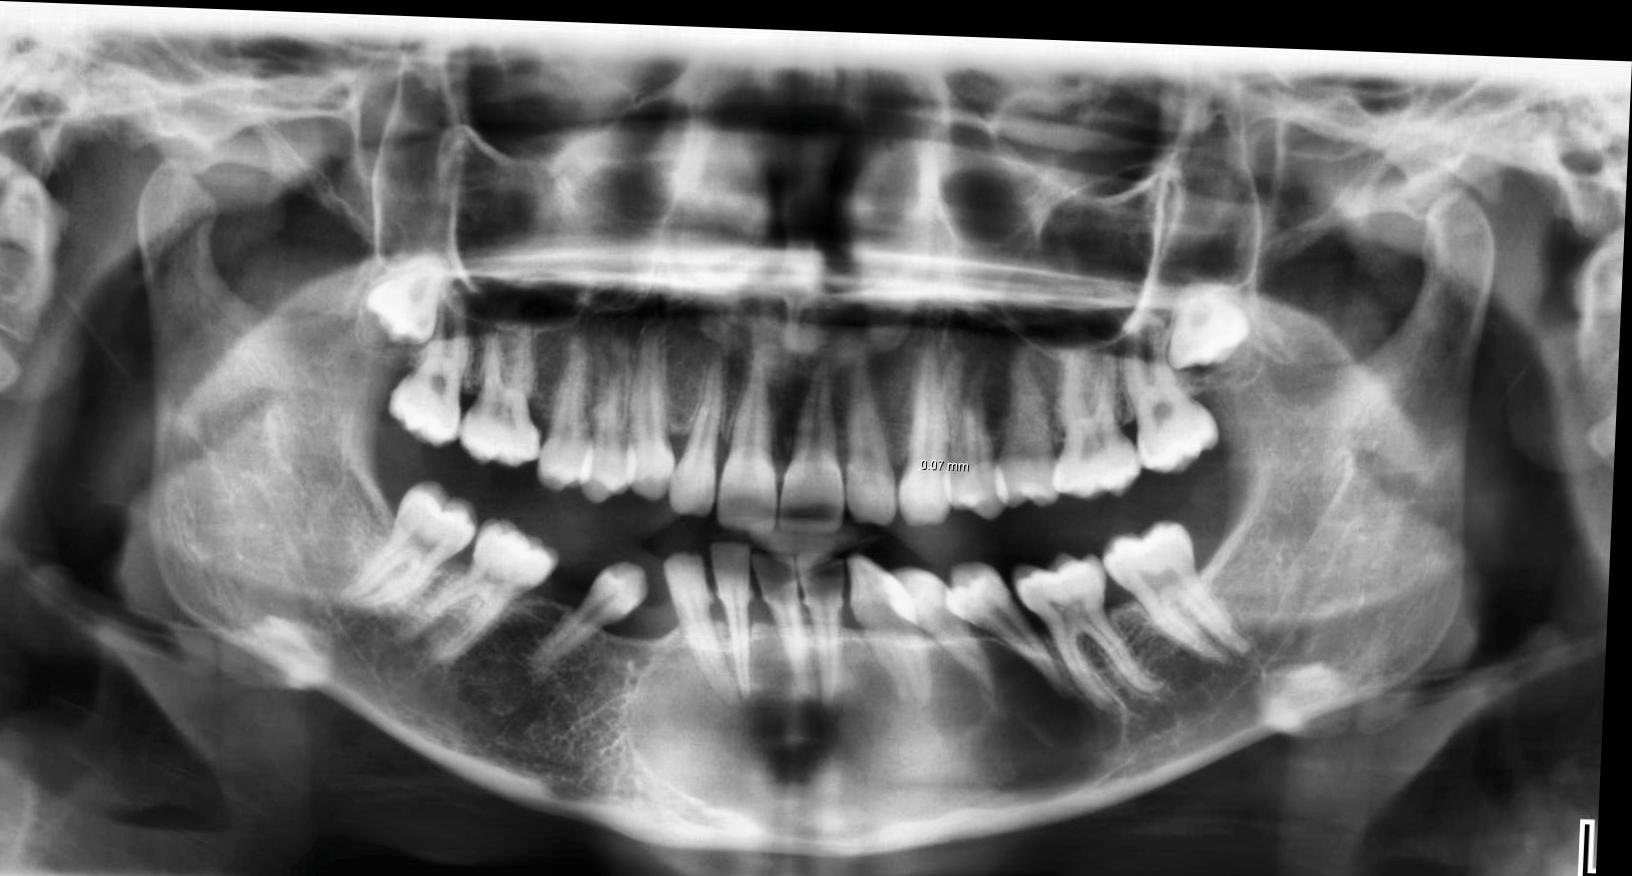keratokist: (629, 622, 1135, 846)
